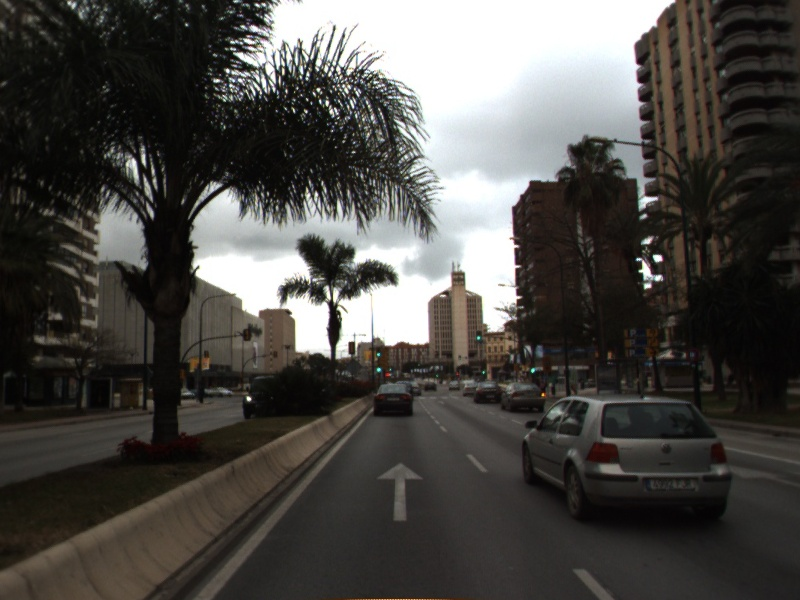STRAIGHT: (374, 460, 426, 523), (726, 462, 800, 488)
